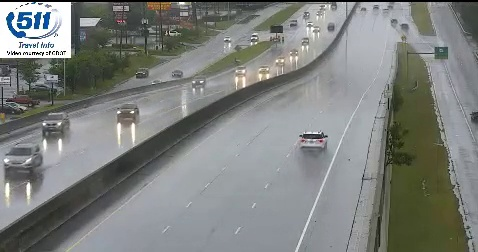car: (300, 131, 326, 150)
